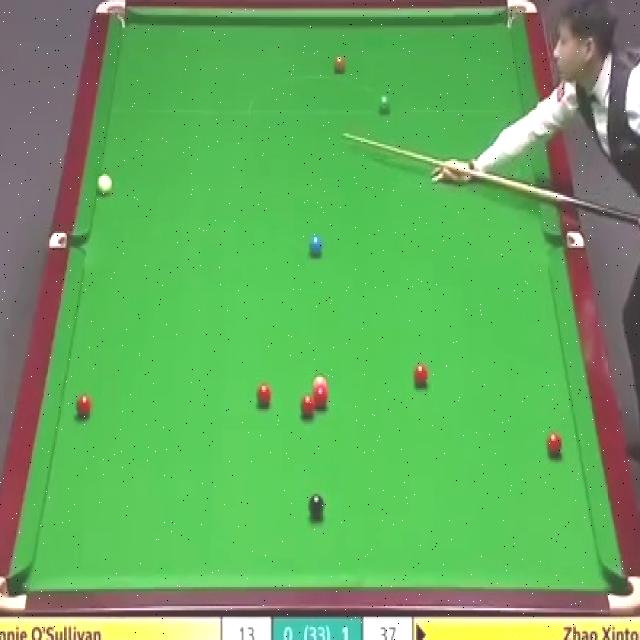black-ball: (308, 491, 326, 519)
blue-ball: (308, 233, 324, 257)
brown-ball: (332, 54, 346, 75)
green-ball: (376, 93, 391, 114)
pink-ball: (312, 375, 328, 390)
red-ball: (76, 391, 92, 420), (546, 433, 564, 457), (412, 363, 428, 388), (312, 387, 329, 409), (256, 384, 272, 407), (300, 396, 316, 417)
white-ball: (96, 171, 114, 197)
